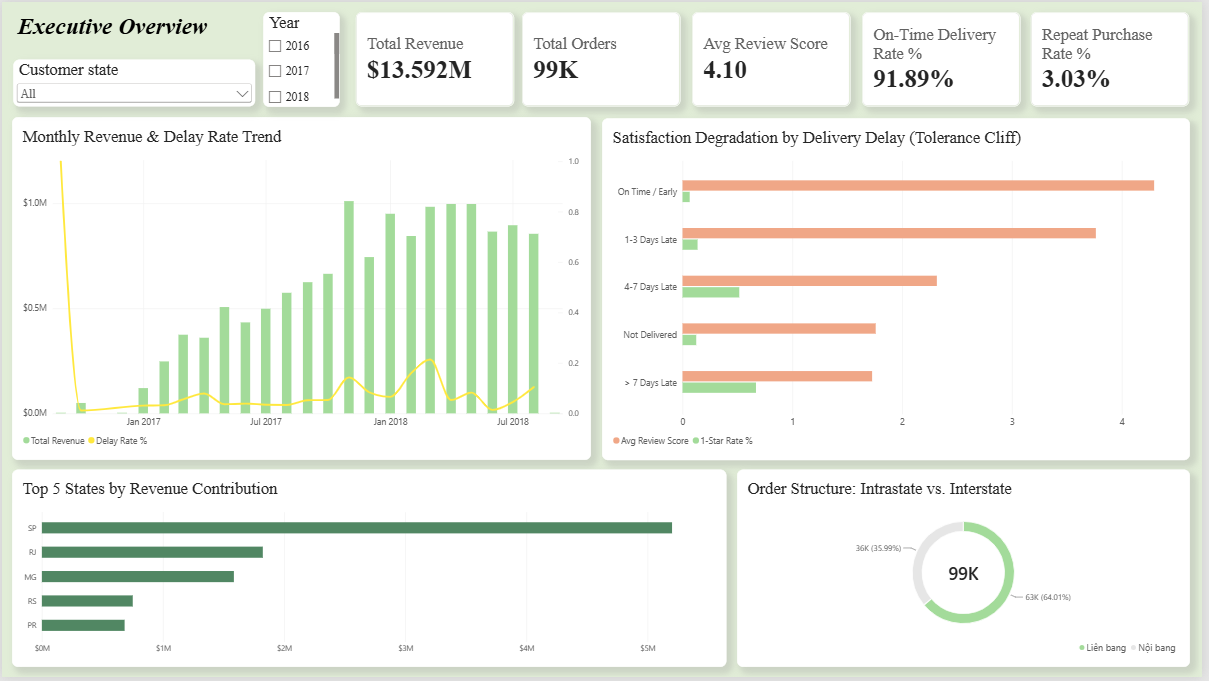

Layout of this report page (visuals, bound fields, positions):
{"tool":"powerbi","page":{"name":"1. Executive Overview ","canvas":[1920,1080],"ordinal":0},"visuals":[{"type":"cardVisual","fields":{"Data":["_Measures.Total Revenue"]},"box":[565.3,16.3,253.3,151],"z":0},{"type":"cardVisual","fields":{"Data":["_Measures.Total Orders"]},"box":[832.7,16.3,253.3,151],"z":1000},{"type":"cardVisual","fields":{"Data":["_Measures.On-Time Delivery Rate %"]},"box":[1375.5,16.3,253.3,151],"z":2000},{"type":"cardVisual","fields":{"Data":["_Measures.Avg Review Score"]},"box":[1104.1,16.3,253.3,151],"z":3000},{"type":"cardVisual","fields":{"Data":["_Measures.Repeat Purchase Rate %"]},"box":[1646.9,16.3,253.3,151],"z":4000},{"type":"lineClusteredColumnComboChart","title":"Monthly Revenue & Delay Rate Trend","fields":{"Category":["dim_date.year_month"],"Y":["_Measures.Total Revenue"],"Y2":["_Measures.Delay Rate %"]},"box":[16.3,183.7,926.5,549],"z":5000},{"type":"clusteredBarChart","title":"Satisfaction Degradation by Delivery Delay (Tolerance Cliff)","fields":{"Category":["fact_order_items.delay_bucket"],"Y":["_Measures.Avg Review Score","_Measures.1-Star Rate %"]},"box":[959.2,185.7,940.8,546.9],"z":6000},{"type":"slicer","fields":{"Values":["dim_customers.customer_state"]},"box":[17.5,92.5,387.5,75],"z":7000},{"type":"slicer","fields":{"Values":["dim_date.year"]},"box":[418.4,16.3,122.6,151.6],"z":8000},{"type":"clusteredBarChart","title":"Top 5 States by Revenue Contribution","fields":{"Category":["dim_customers.customer_state"],"Y":["_Measures.Total Revenue"]},"box":[16.3,749,1142.9,316.3],"z":9000},{"type":"donutChart","title":"Order Structure: Intrastate vs. Interstate","fields":{"Category":["fact_order_items.Delivery_status"],"Y":["_Measures.Total Orders"]},"box":[1175.5,749,724.5,316.3],"z":10000},{"type":"textbox","box":[16.3,16.3,387.8,53.1],"z":11000}]}

Visuals, with their boxes in screenshot pixels (x1, y1, x2, y2), scaled from the page's 1920x1080 canvas onto the 1209x681 screenshot:
cardVisual - _Measures.Total Revenue: 356:10:515:105
cardVisual - _Measures.Total Orders: 524:10:684:105
cardVisual - _Measures.On-Time Delivery Rate %: 866:10:1026:105
cardVisual - _Measures.Avg Review Score: 695:10:855:105
cardVisual - _Measures.Repeat Purchase Rate %: 1037:10:1197:105
"Monthly Revenue & Delay Rate Trend" lineClusteredColumnComboChart: 10:116:594:462
"Satisfaction Degradation by Delivery Delay (Tolerance Cliff)" clusteredBarChart: 604:117:1196:462
slicer - dim_customers.customer_state: 11:58:255:106
slicer - dim_date.year: 263:10:341:106
"Top 5 States by Revenue Contribution" clusteredBarChart: 10:472:730:672
"Order Structure: Intrastate vs. Interstate" donutChart: 740:472:1196:672
textbox: 10:10:254:44
